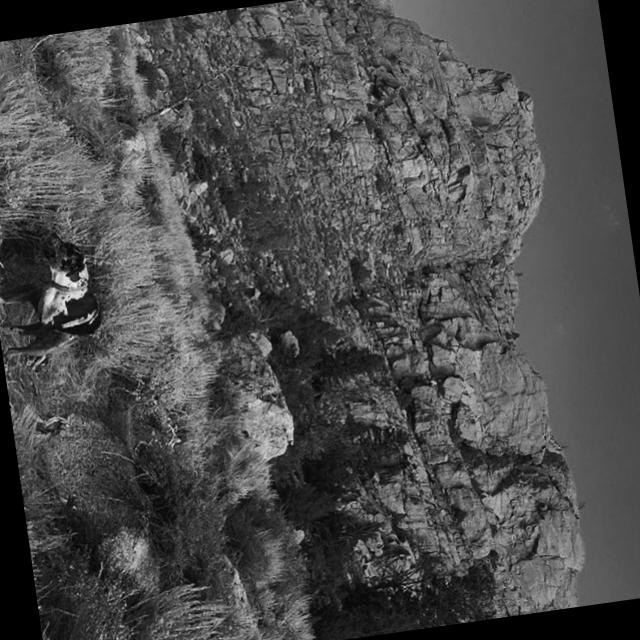squatting: (0, 220, 117, 376)
